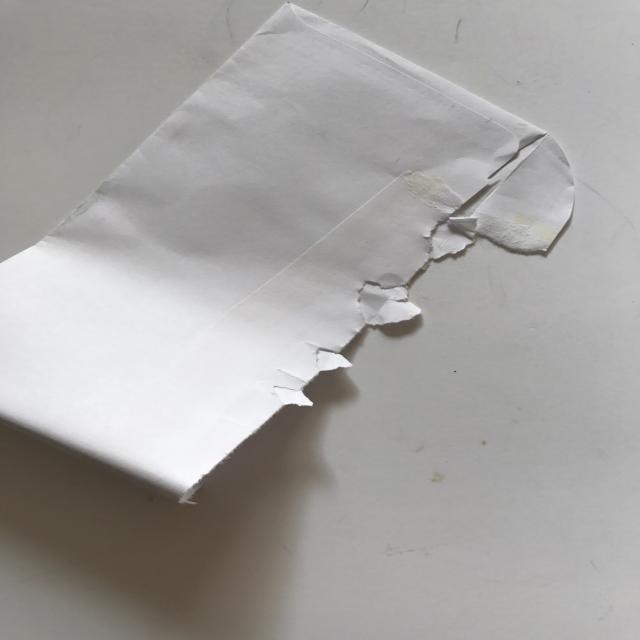Paper: (0, 0, 634, 510)
